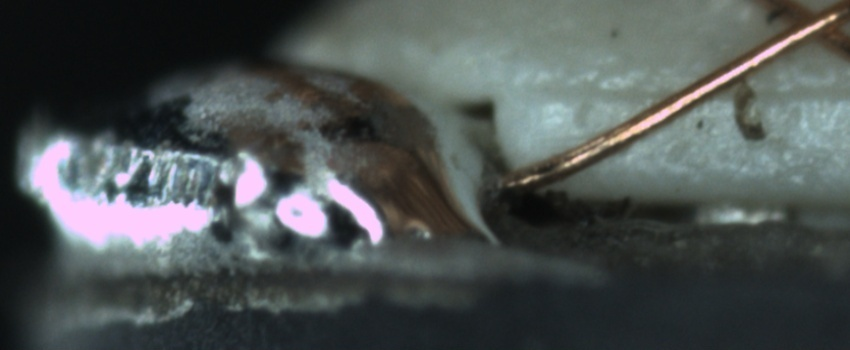CL: (755, 2, 848, 59)
DL: (525, 58, 849, 125)
